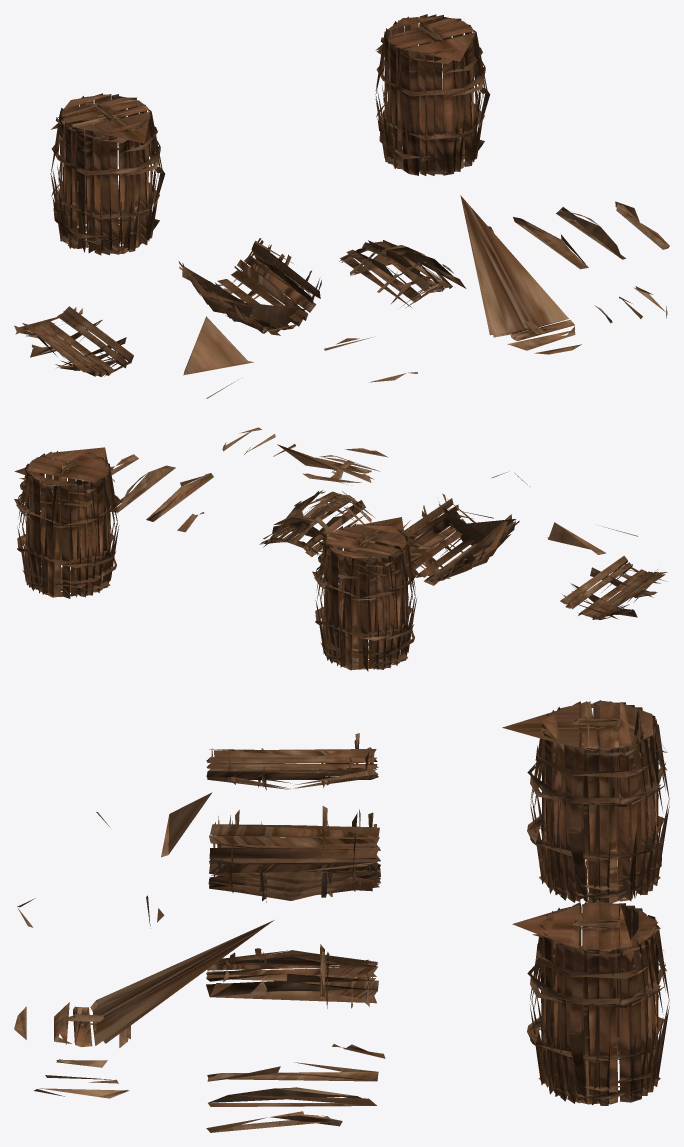
File: barrels.glb
The picture shows the model from 3 angles, top to bottom: view 1: azimuth 30°, elevation 25°; view 2: azimuth 150°, elevation 25°; view 3: azimuth 270°, elevation 25°; orthographic projection. The views are drawn at different scales.
Parts seen in each view (by area): view 1: wooden_barrels_01_barrel01, wooden_barrels_01_barrel02, wooden_barrels_01_piece08, wooden_barrels_01_piece01, wooden_barrels_01_piece02, wooden_barrels_01_piece03, wooden_barrels_01_piece13, wooden_barrels_01_piece04, wooden_barrels_01_piece05, wooden_barrels_01_piece06; view 2: wooden_barrels_01_barrel01, wooden_barrels_01_barrel02, wooden_barrels_01_piece01, wooden_barrels_01_piece02, wooden_barrels_01_piece03, wooden_barrels_01_piece08, wooden_barrels_01_piece04, wooden_barrels_01_piece05, wooden_barrels_01_piece13; view 3: wooden_barrels_01_barrel02, wooden_barrels_01_barrel01, wooden_barrels_01_piece01, wooden_barrels_01_piece03, wooden_barrels_01_piece08, wooden_barrels_01_piece02, wooden_barrels_01_piece05, wooden_barrels_01_piece04, wooden_barrels_01_piece06, wooden_barrels_01_piece13.
Boxes of the visible parts, x1,y1,x2,y2 form: wooden_barrels_01_barrel01: (375, 14, 490, 175); wooden_barrels_01_barrel02: (50, 93, 164, 255); wooden_barrels_01_piece08: (460, 195, 575, 350); wooden_barrels_01_piece01: (178, 238, 321, 335); wooden_barrels_01_piece02: (14, 306, 133, 376); wooden_barrels_01_piece03: (339, 240, 466, 307); wooden_barrels_01_piece13: (183, 316, 253, 375); wooden_barrels_01_piece04: (513, 217, 588, 269); wooden_barrels_01_piece05: (556, 207, 625, 259); wooden_barrels_01_piece06: (615, 201, 669, 249); wooden_barrels_01_barrel01: (14, 447, 120, 598); wooden_barrels_01_barrel02: (312, 517, 418, 671); wooden_barrels_01_piece01: (393, 493, 519, 585); wooden_barrels_01_piece02: (560, 555, 667, 619); wooden_barrels_01_piece03: (259, 490, 374, 556); wooden_barrels_01_piece08: (277, 444, 380, 484); wooden_barrels_01_piece04: (146, 473, 213, 521); wooden_barrels_01_piece05: (111, 465, 175, 512); wooden_barrels_01_piece13: (547, 522, 605, 554); wooden_barrels_01_barrel02: (502, 700, 669, 902); wooden_barrels_01_barrel01: (512, 900, 669, 1105); wooden_barrels_01_piece01: (208, 806, 380, 902); wooden_barrels_01_piece03: (206, 944, 378, 1008); wooden_barrels_01_piece08: (54, 920, 273, 1047); wooden_barrels_01_piece02: (206, 733, 378, 790); wooden_barrels_01_piece05: (208, 1087, 376, 1106); wooden_barrels_01_piece04: (207, 1062, 378, 1081); wooden_barrels_01_piece06: (206, 1111, 342, 1132); wooden_barrels_01_piece13: (161, 792, 212, 857).
Bounding box in the file's own units: 4.43 × 0.9496 × 3.33.
3 materials, 3 textured.
